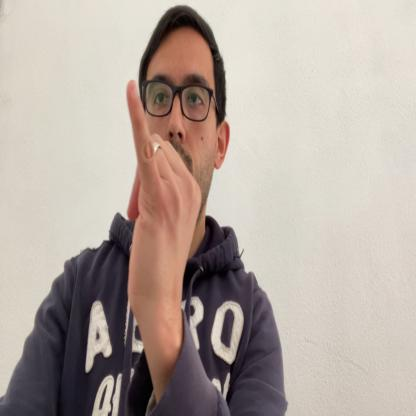I: (125, 79, 202, 330)
